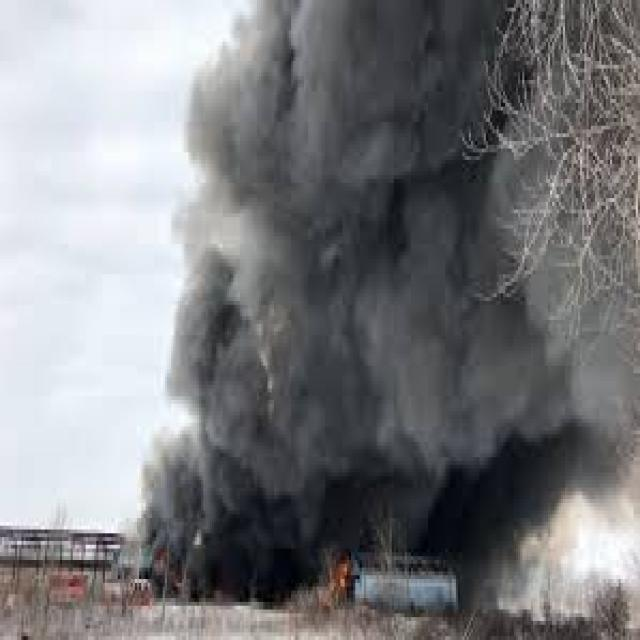Smoke: (147, 32, 458, 584), (340, 0, 621, 495)
